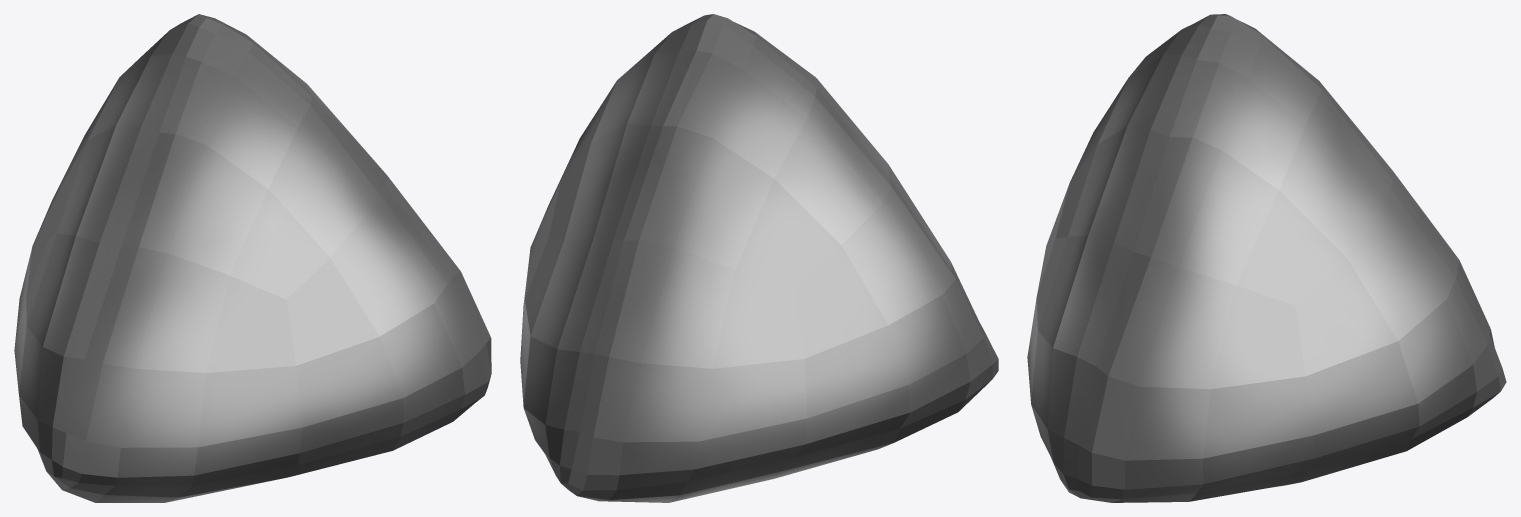
Rendered from tetrahedron.fbx.
3 views of the same model, side by side, from view 1: azimuth 30°, elevation 25°; view 2: azimuth 150°, elevation 25°; view 3: azimuth 270°, elevation 25° (orthographic).
Visible parts, largest first — view 1: tetrahedron; view 2: tetrahedron; view 3: tetrahedron.
Boxes of the visible parts, x1=… form: tetrahedron: x1=14, y1=14, x2=491, y2=502; tetrahedron: x1=520, y1=14, x2=998, y2=502; tetrahedron: x1=1027, y1=14, x2=1506, y2=502.
Size of the model in its own units: 66.05 by 61.5 by 62.21.
